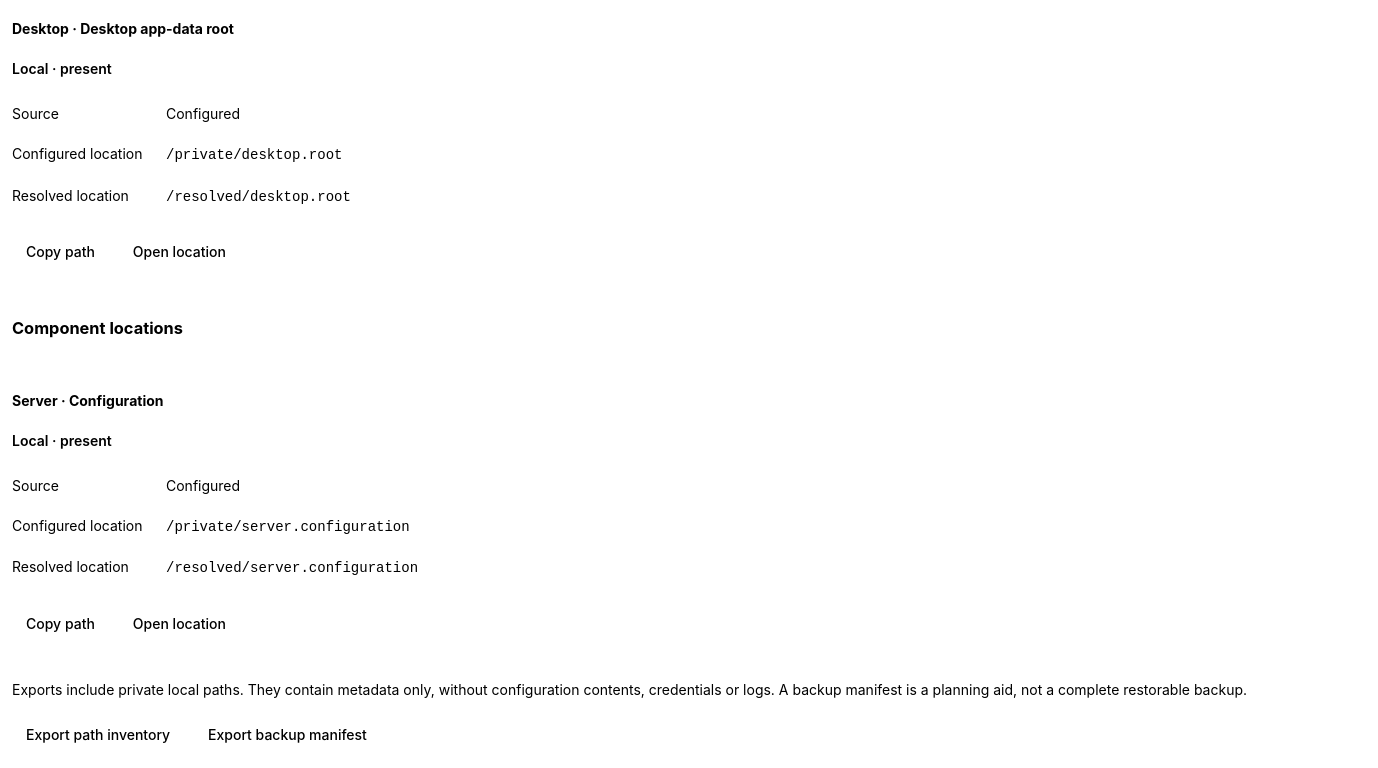
it: configuration location observations › uses ID and revision for opening, and invalidates metadata after a native revision rejection
(page scrolled)
Click the button "Open location" below "/resolved/server.configuration".
click(179, 623)  # box [119,603,240,643]
(page scrolled)
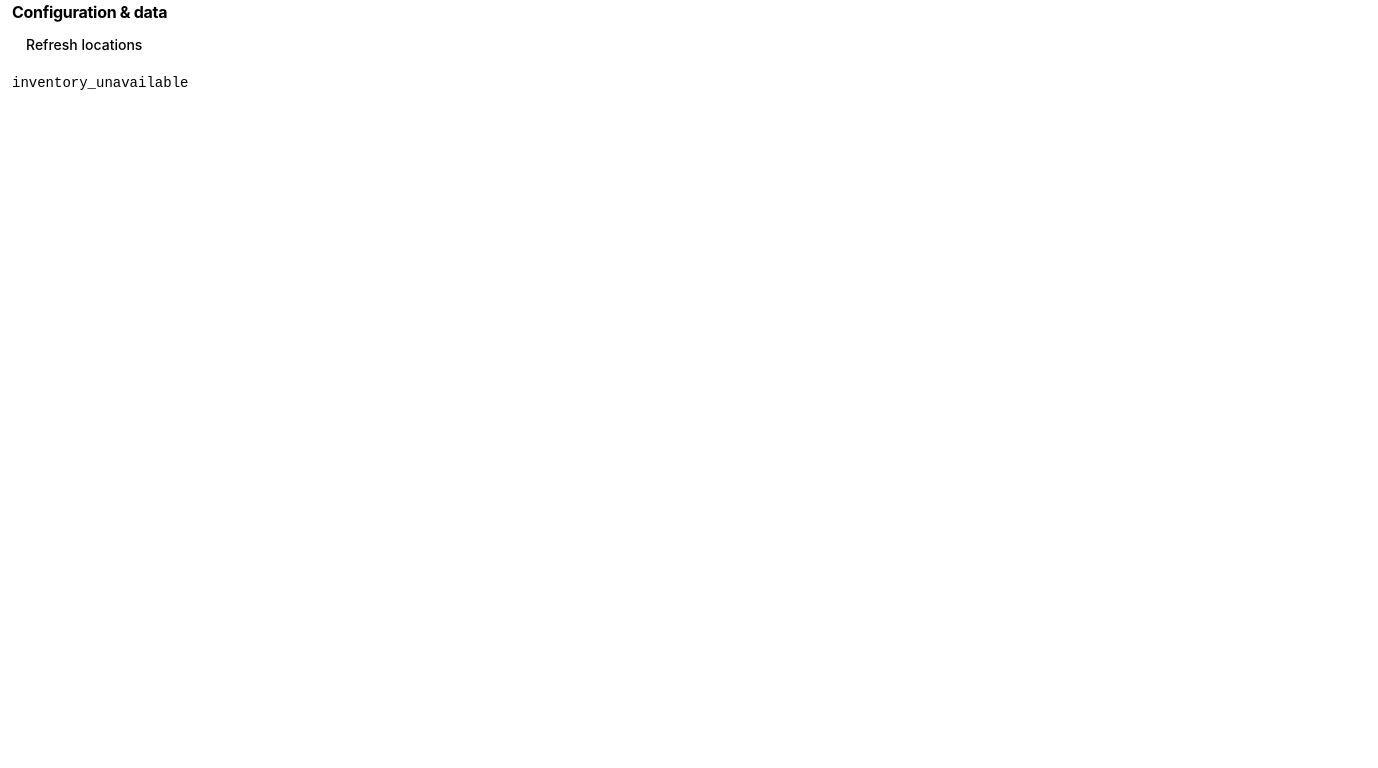
Expected: the message "inventory_unavailable" is shown, [12,75,188,91]
Expected: the button "Export path inventory" is gone
